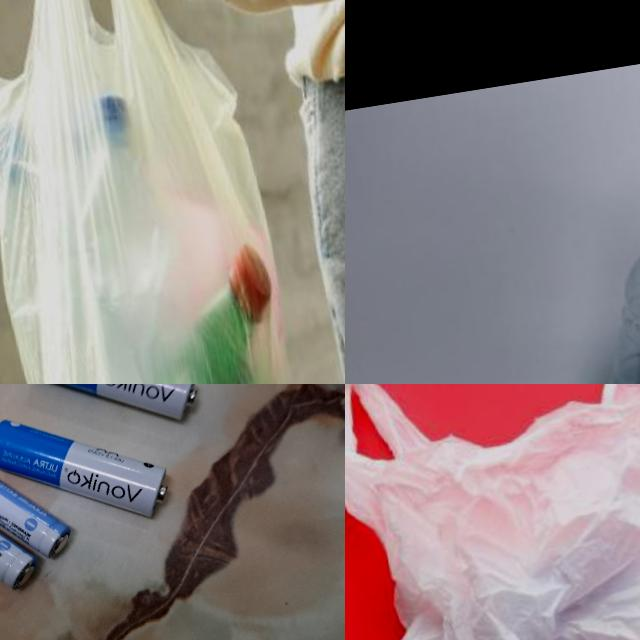bateria: (0, 393, 174, 542), (0, 429, 77, 576), (24, 384, 206, 445), (0, 456, 41, 608)
sacola plástica: (0, 0, 322, 384), (345, 384, 640, 640)
